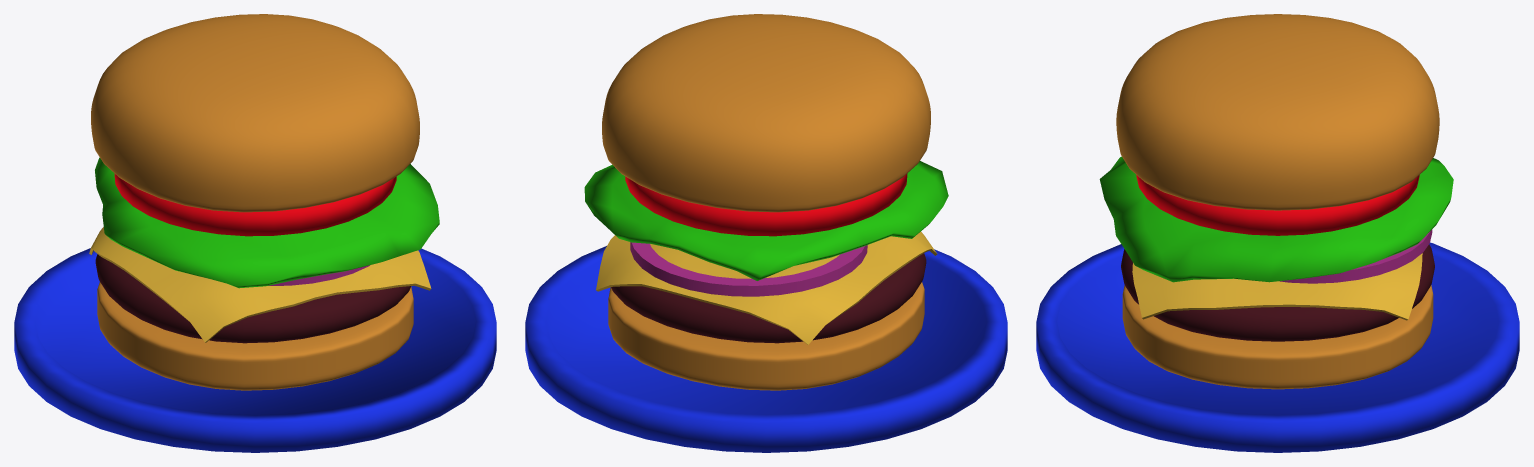
File: hamburger.glb
3 renders of one model, left to right at view 1: azimuth 30°, elevation 25°; view 2: azimuth 150°, elevation 25°; view 3: azimuth 270°, elevation 25°, orthographic.
Visible parts, largest first — view 1: top bun, Plate, lettuce, bottom bun, cheese, Patty, tomato, red onion 2; view 2: top bun, Plate, bottom bun, lettuce, cheese, Patty, tomato, red onion; view 3: top bun, Plate, lettuce, bottom bun, cheese, Patty, tomato, red onion.
Boxes of the visible parts, left/top/right/bottom form: top bun: left=91, top=14, right=419, bottom=212; Plate: left=14, top=248, right=496, bottom=452; lettuce: left=95, top=157, right=439, bottom=288; bottom bun: left=97, top=282, right=413, bottom=390; cheese: left=89, top=227, right=431, bottom=342; Patty: left=95, top=254, right=410, bottom=343; tomato: left=114, top=173, right=396, bottom=236; red onion 2: left=268, top=265, right=370, bottom=285; top bun: left=602, top=14, right=930, bottom=212; Plate: left=525, top=246, right=1007, bottom=452; bottom bun: left=608, top=282, right=924, bottom=390; lettuce: left=584, top=161, right=948, bottom=280; cheese: left=596, top=231, right=937, bottom=344; Patty: left=611, top=253, right=926, bottom=343; tomato: left=625, top=173, right=907, bottom=236; red onion: left=630, top=242, right=867, bottom=296; top bun: left=1116, top=14, right=1439, bottom=210; Plate: left=1036, top=242, right=1519, bottom=452; lettuce: left=1099, top=156, right=1453, bottom=282; bottom bun: left=1122, top=285, right=1433, bottom=389; cheese: left=1132, top=253, right=1422, bottom=320; Patty: left=1121, top=244, right=1434, bottom=341; tomato: left=1136, top=175, right=1419, bottom=235; red onion: left=1279, top=229, right=1432, bottom=283.
Size of the model in its own units: 2.36 by 1.61 by 2.36.
